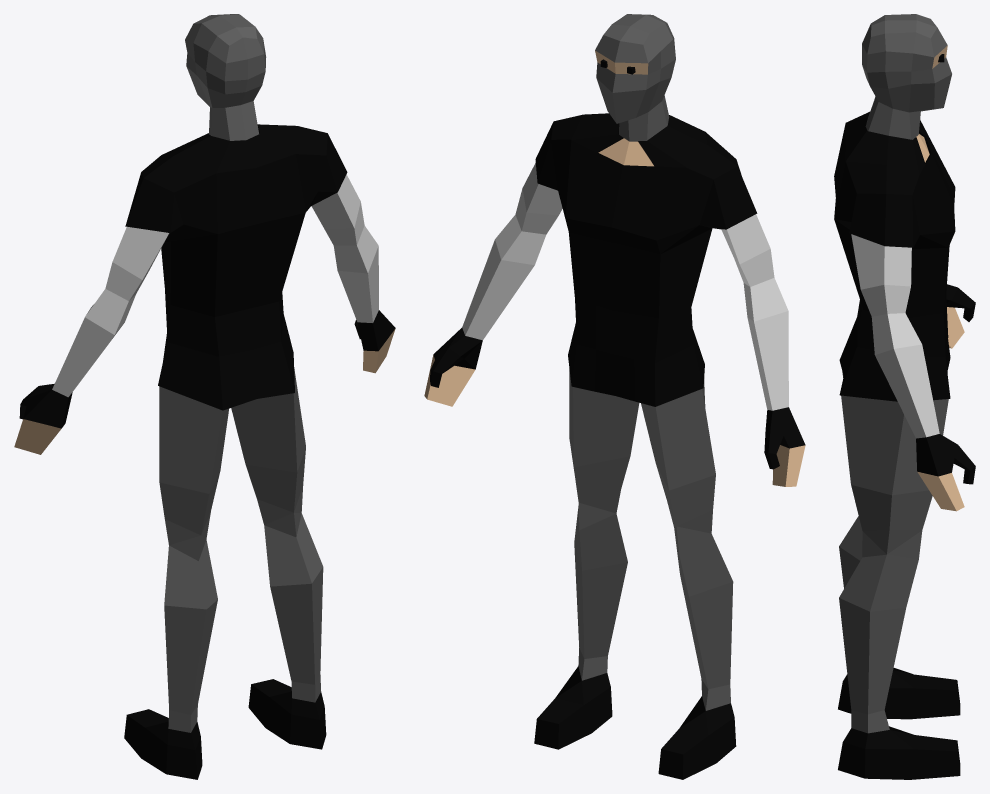
File: joker.fbx
3 renders of one model, left to right at view 1: azimuth 30°, elevation 25°; view 2: azimuth 150°, elevation 25°; view 3: azimuth 270°, elevation 25°, orthographic.
Visible parts, largest first — view 1: Character.005, Character.012, Character.006, Character, Character.001, Character.007, Character.009, Character.003; view 2: Character.005, Character.012, Character.006, Character, Character.001, Character.007, Character.009, Character.003, Character.004; view 3: Character.012, Character.005, Character, Character.006, Character.001, Character.007, Character.009, Character.003, Character.008.
Part boxes in pixels (x1,y1,x2,y2): Character.005: (125, 124, 347, 410); Character.012: (159, 369, 323, 732); Character.006: (52, 174, 378, 397); Character: (124, 679, 326, 779); Character.001: (185, 14, 266, 107); Character.007: (20, 310, 395, 428); Character.009: (14, 328, 395, 454); Character.003: (209, 101, 258, 140); Character.005: (535, 113, 757, 406); Character.012: (569, 369, 733, 710); Character.006: (462, 163, 788, 410); Character: (534, 666, 736, 779); Character.001: (595, 14, 675, 123); Character.007: (430, 327, 805, 453); Character.009: (424, 355, 805, 486); Character.003: (619, 95, 669, 141); Character.004: (598, 138, 653, 166); Character.012: (839, 372, 948, 733); Character.005: (834, 111, 955, 401); Character: (838, 668, 960, 779); Character.006: (851, 234, 939, 438); Character.001: (862, 14, 951, 112); Character.007: (916, 284, 975, 476); Character.009: (917, 307, 964, 511); Character.003: (865, 96, 920, 139); Character.008: (946, 299, 975, 484).
Bounding box in the file's own units: 97.75 × 181 × 32.25.
